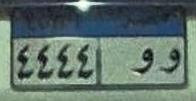4: (74, 40, 94, 82), (34, 42, 55, 81), (15, 42, 34, 82), (55, 43, 74, 81)
waw: (127, 44, 156, 79), (159, 44, 180, 77)
